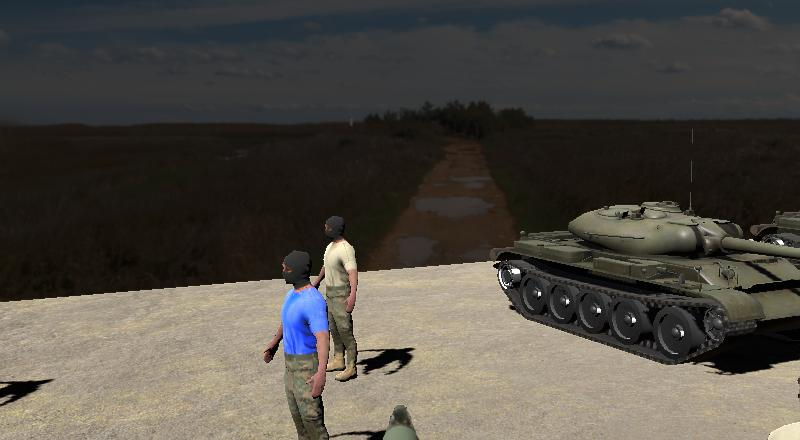Human: (261, 245, 336, 440), (308, 210, 362, 384)
Tank: (490, 198, 800, 367), (746, 203, 800, 278)
